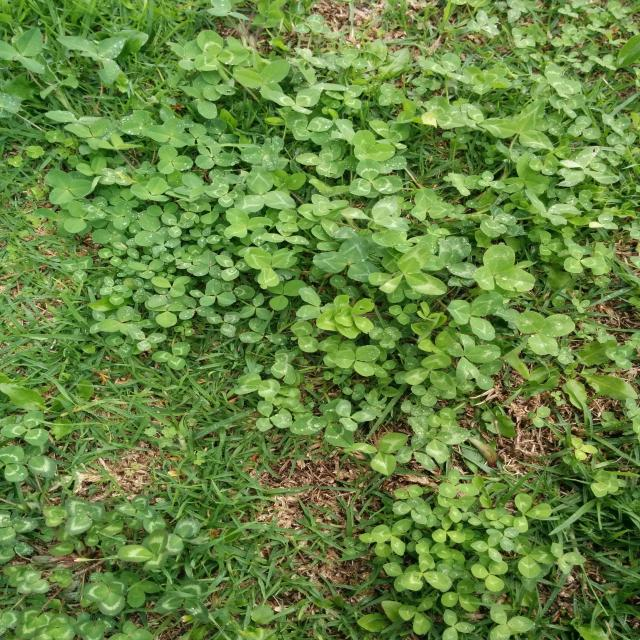Four Leaf Clover: (205, 177, 245, 207), (98, 166, 131, 185)
